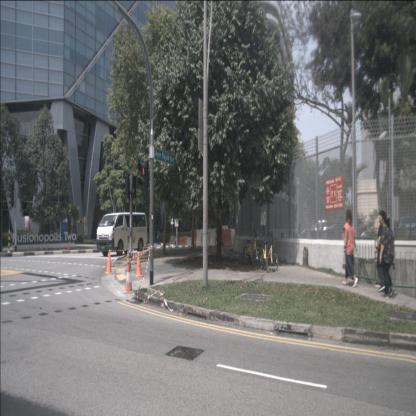human-pedestrian-adult: (379, 213, 396, 299), (374, 210, 391, 292), (342, 210, 358, 288), (156, 228, 160, 244), (154, 230, 158, 244)
movable_object-barrier: (196, 229, 217, 247), (220, 228, 233, 247), (231, 228, 238, 245), (177, 236, 188, 245), (170, 235, 178, 244), (188, 236, 194, 246)
movable_object-trafficcone: (123, 263, 135, 294), (134, 252, 144, 277), (104, 251, 114, 275), (124, 249, 134, 272), (184, 238, 188, 246), (68, 240, 71, 250)
vehicle-bicycle: (258, 231, 279, 273), (243, 229, 262, 268)
vehicle-car: (97, 212, 148, 257), (300, 219, 336, 242), (398, 216, 415, 239)
